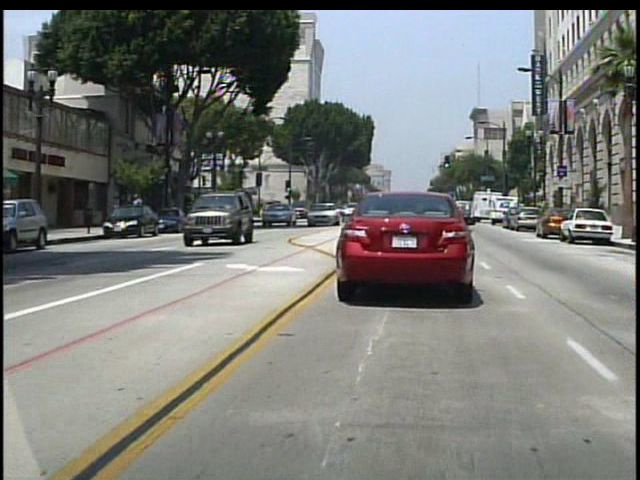person: (135, 192, 149, 226)
